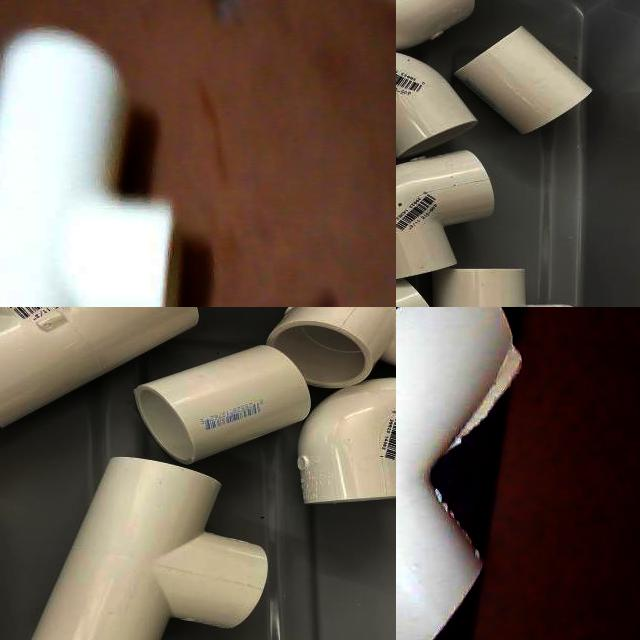Defective: (456, 314, 519, 465)
L Joint: (297, 377, 396, 505), (396, 157, 493, 280), (265, 307, 396, 389), (396, 52, 477, 160)
T Joint: (0, 27, 180, 307), (31, 457, 270, 640), (396, 307, 521, 640)
